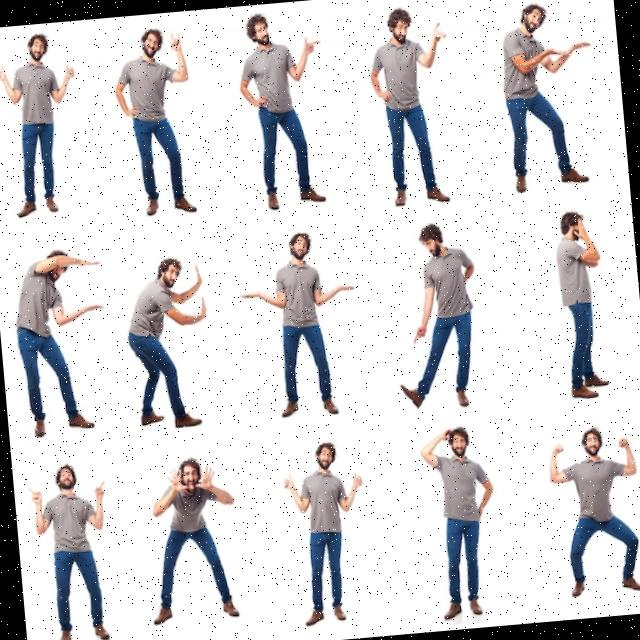Person: (236, 228, 364, 422), (233, 8, 334, 212), (497, 0, 603, 192), (9, 245, 114, 438), (364, 3, 460, 207), (386, 220, 484, 412), (140, 454, 243, 624), (281, 439, 374, 626), (110, 26, 200, 217), (25, 459, 118, 640), (121, 255, 216, 431), (418, 424, 503, 620), (0, 30, 86, 219), (547, 424, 640, 597), (552, 208, 612, 398)
